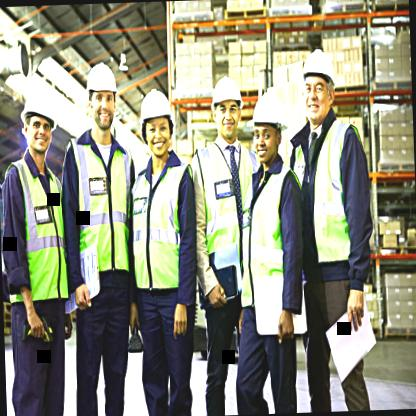helmet: (294, 43, 344, 126), (18, 77, 66, 162), (133, 83, 180, 169), (245, 87, 294, 168), (204, 64, 251, 146), (82, 52, 124, 136)
